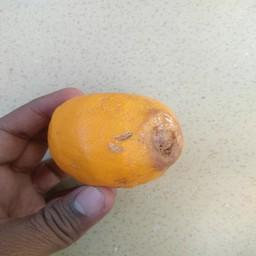Bad_orange: (41, 88, 190, 194)
